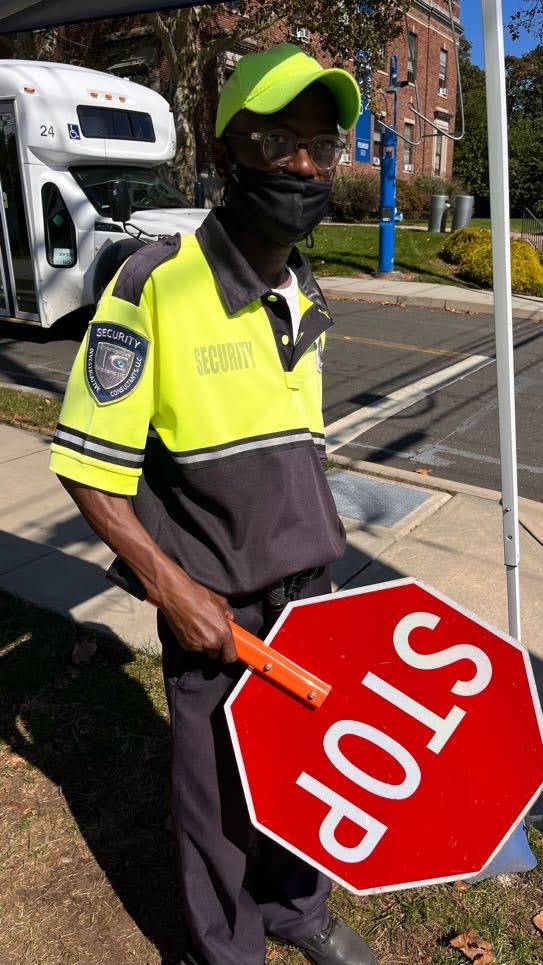Facility Operator: (166, 26, 405, 485)
